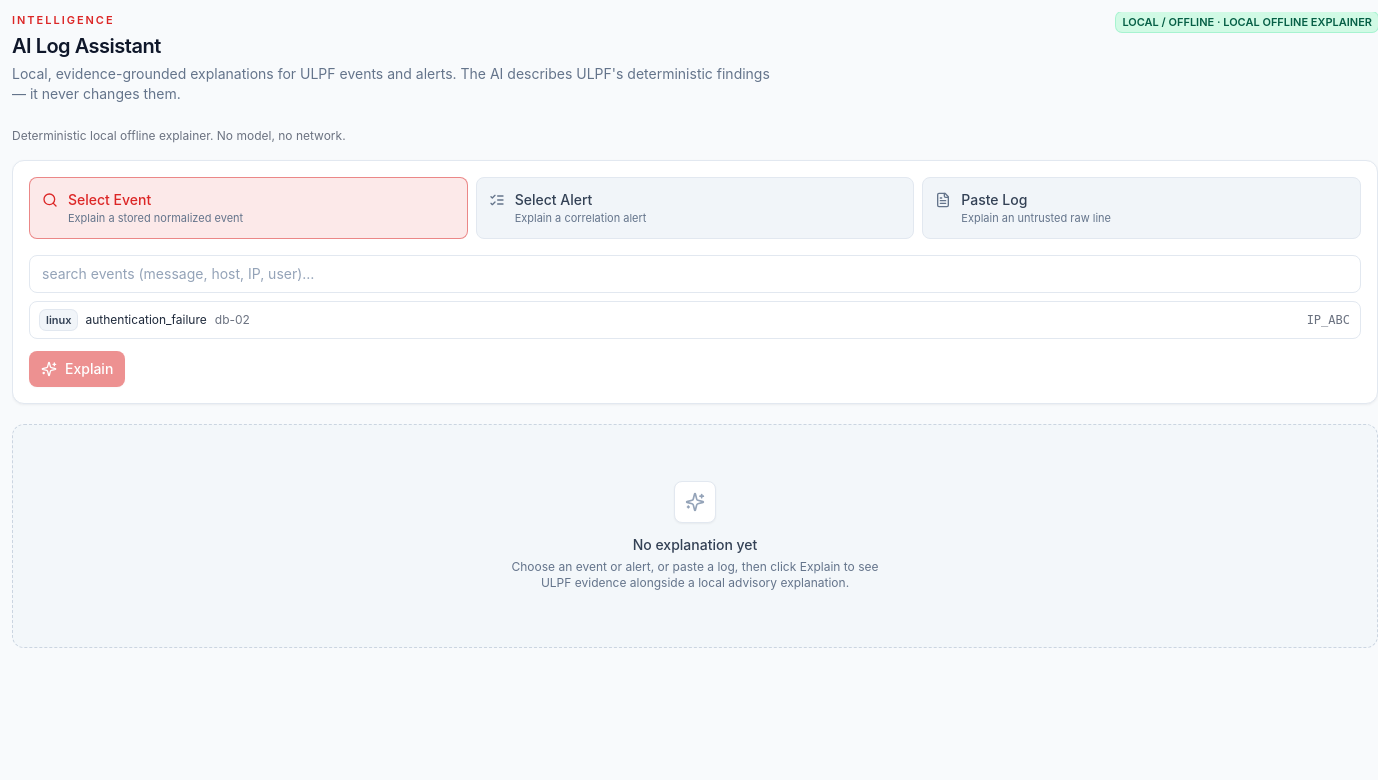
Scenario: AssistantPage › shows an error state when explain fails
Click the button "linux authentication_failure db-02 IP_ABC".
click(59, 320)  # box [30,302,1360,338]
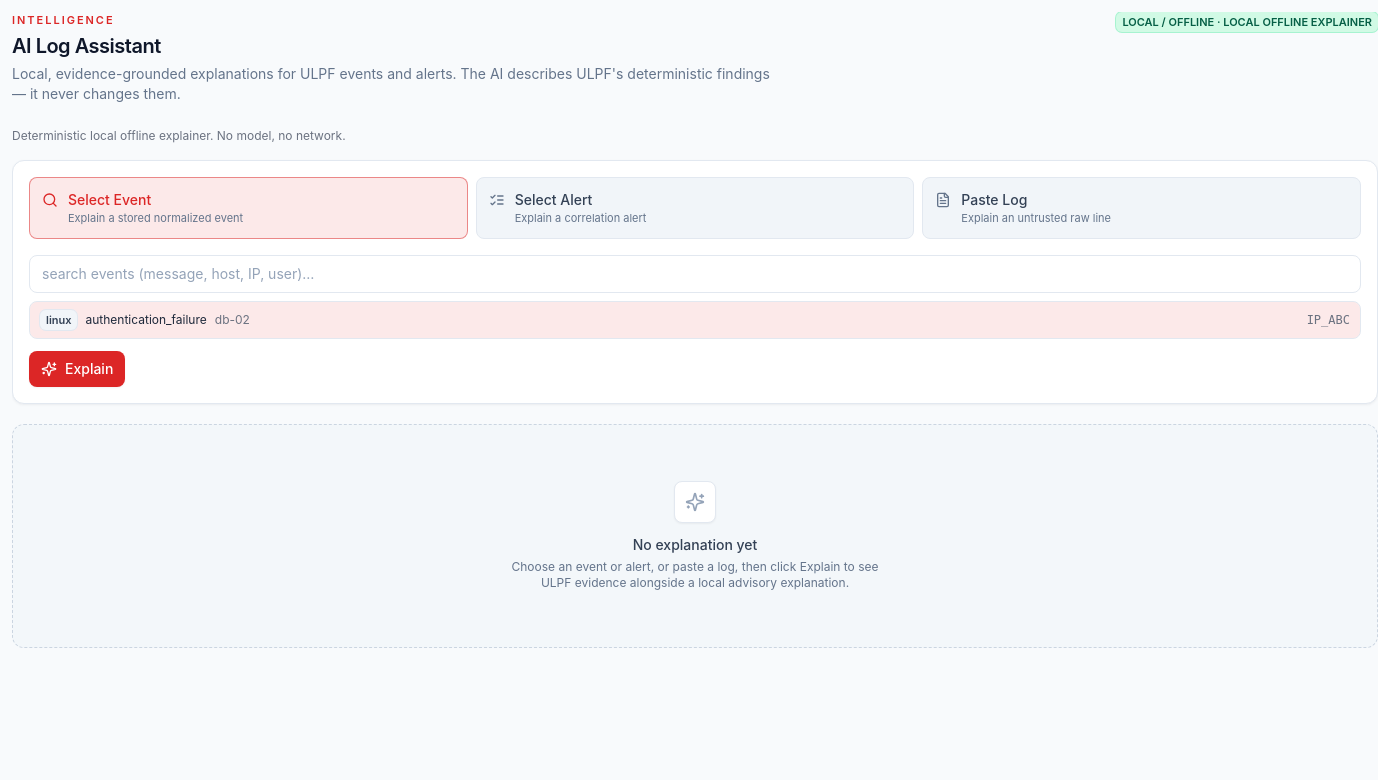
Click the button "Explain".
click(77, 369)  # box [29,351,125,387]
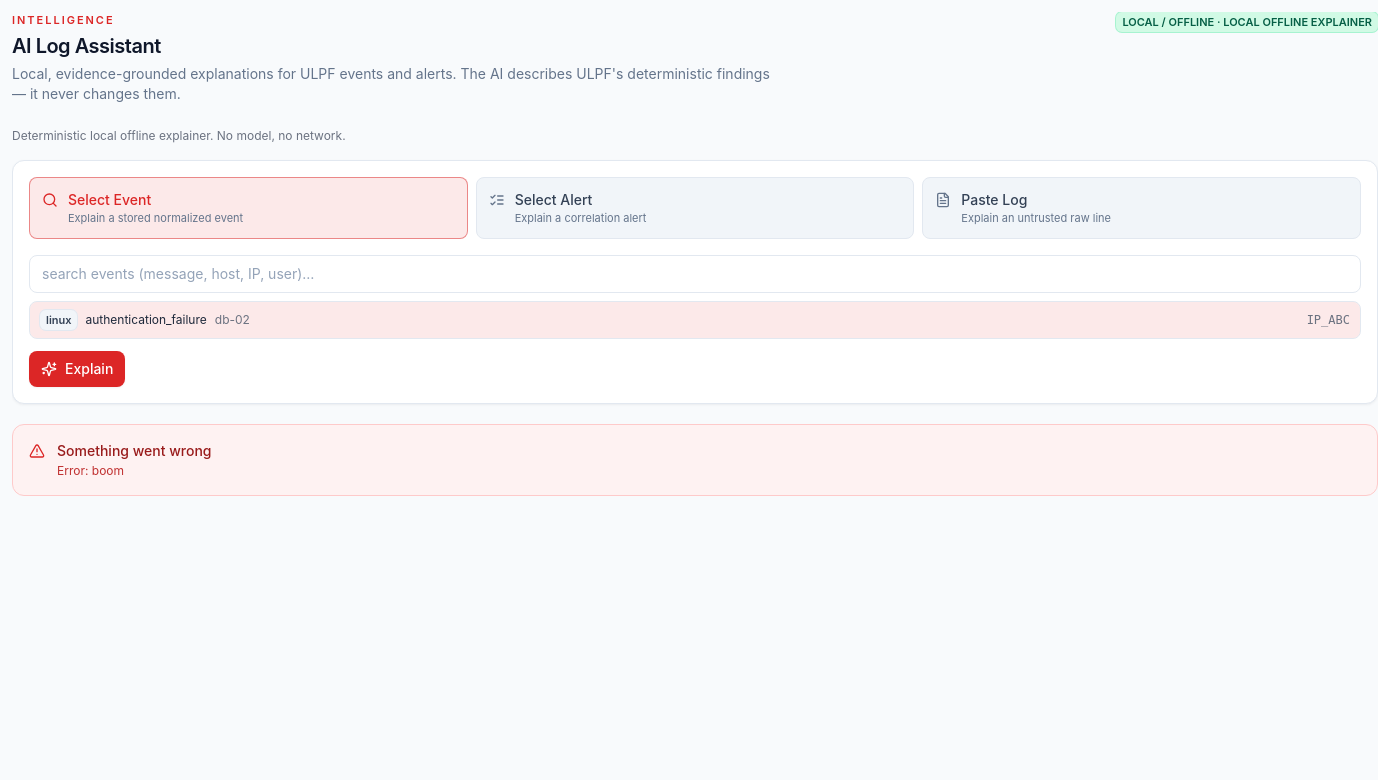
Expected: the text "Error: boom" is shown, [57,463,124,478]
